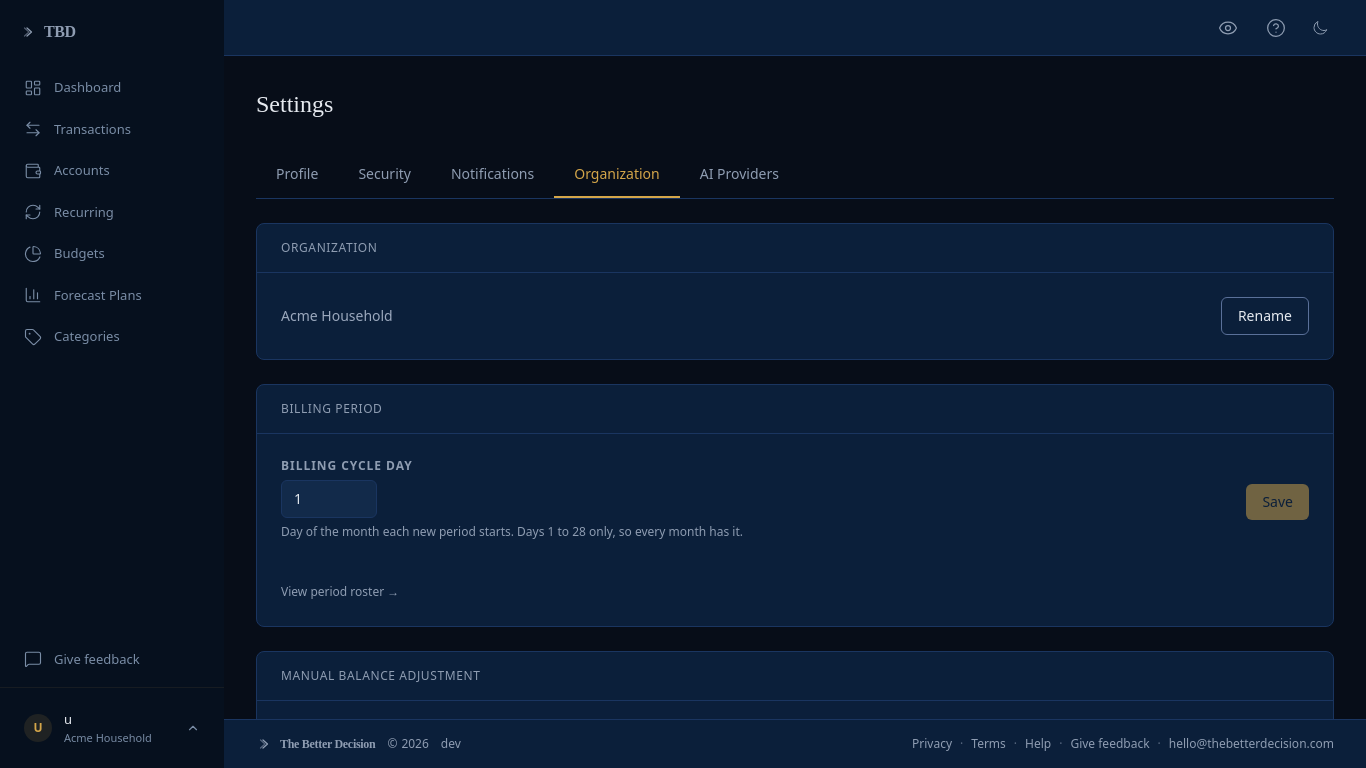
Test: OrganizationSettingsPage — rename › shows 409 error message on duplicate
Step 1. Click the button "Rename" → (1265, 316), box x1=1221 y1=297 x2=1309 y2=335
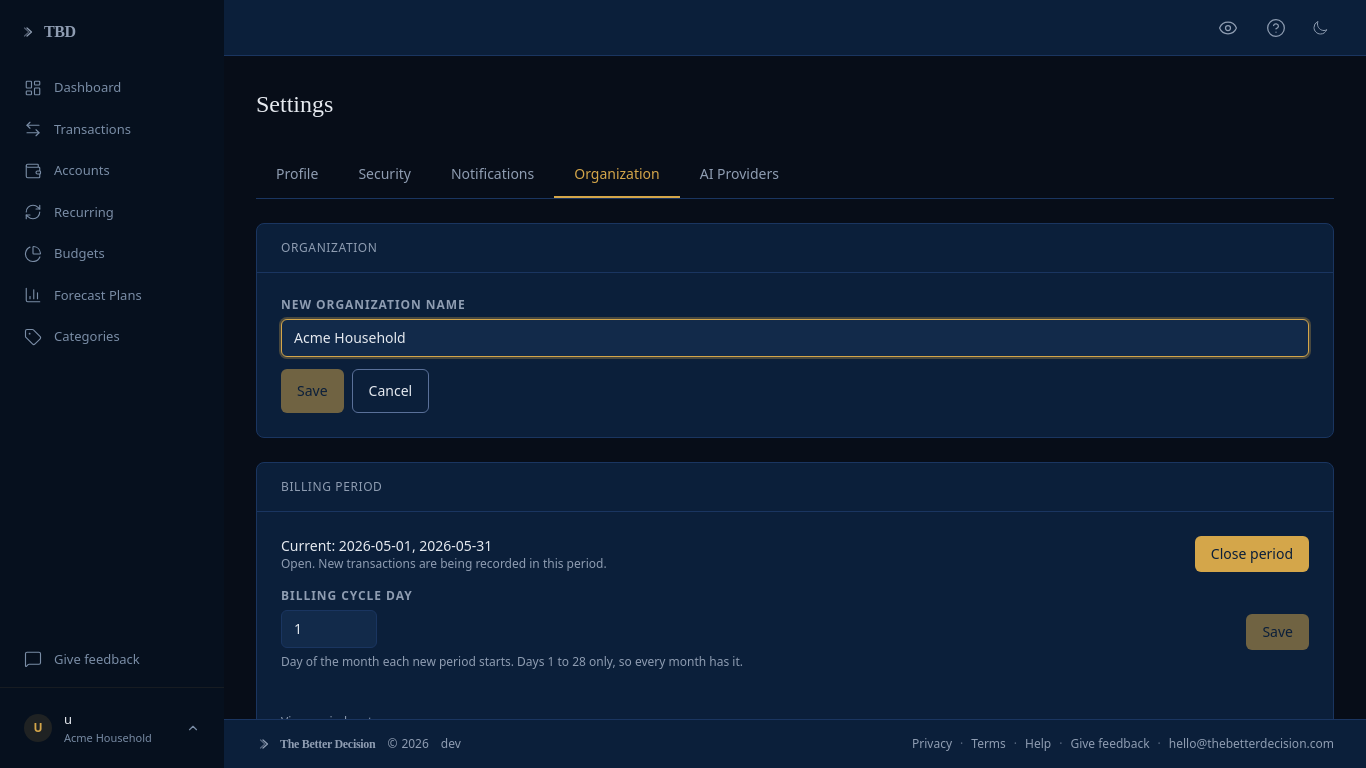
Step 2. Replace the text in the field labelled "New organization name" with "Other Co" → (795, 338), box x1=281 y1=319 x2=1309 y2=357
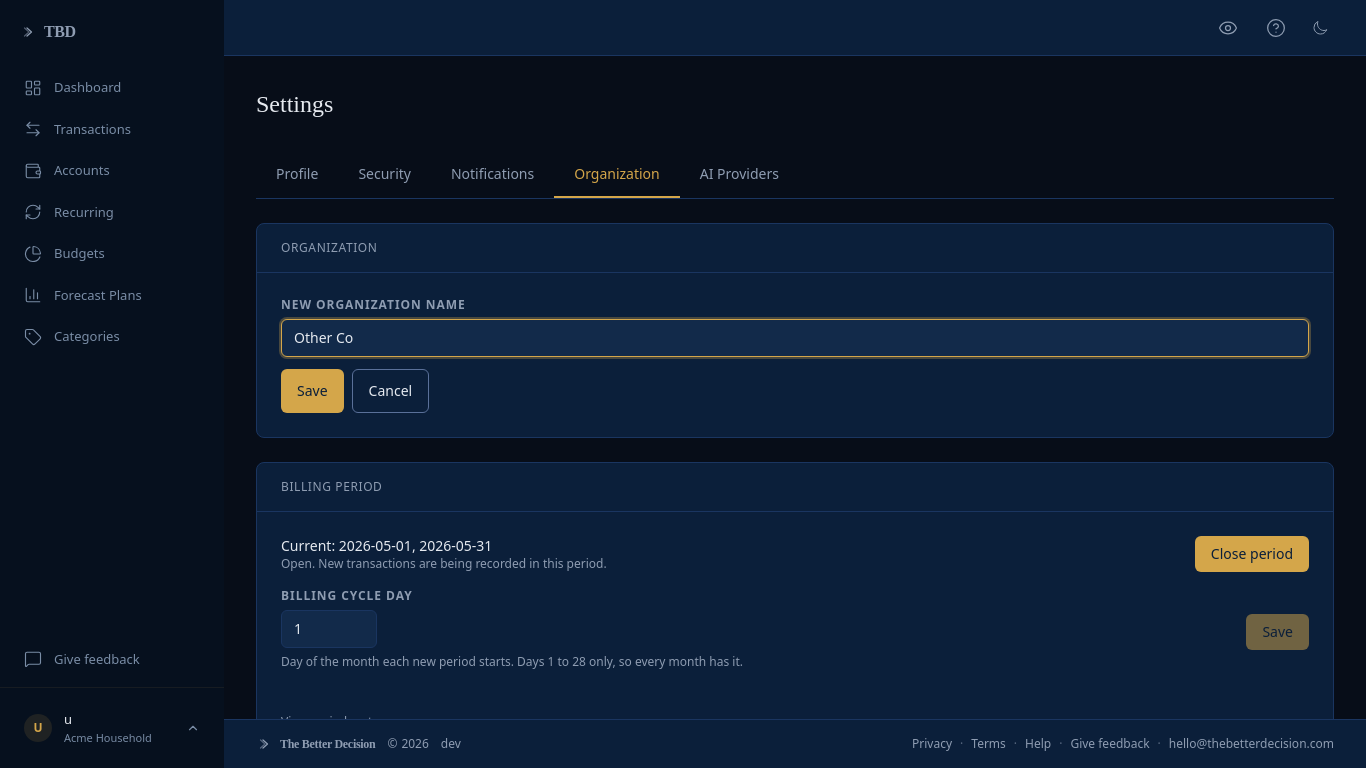
Step 3. Click the button with aria-label "save organization name" → (312, 391), box x1=281 y1=369 x2=344 y2=413
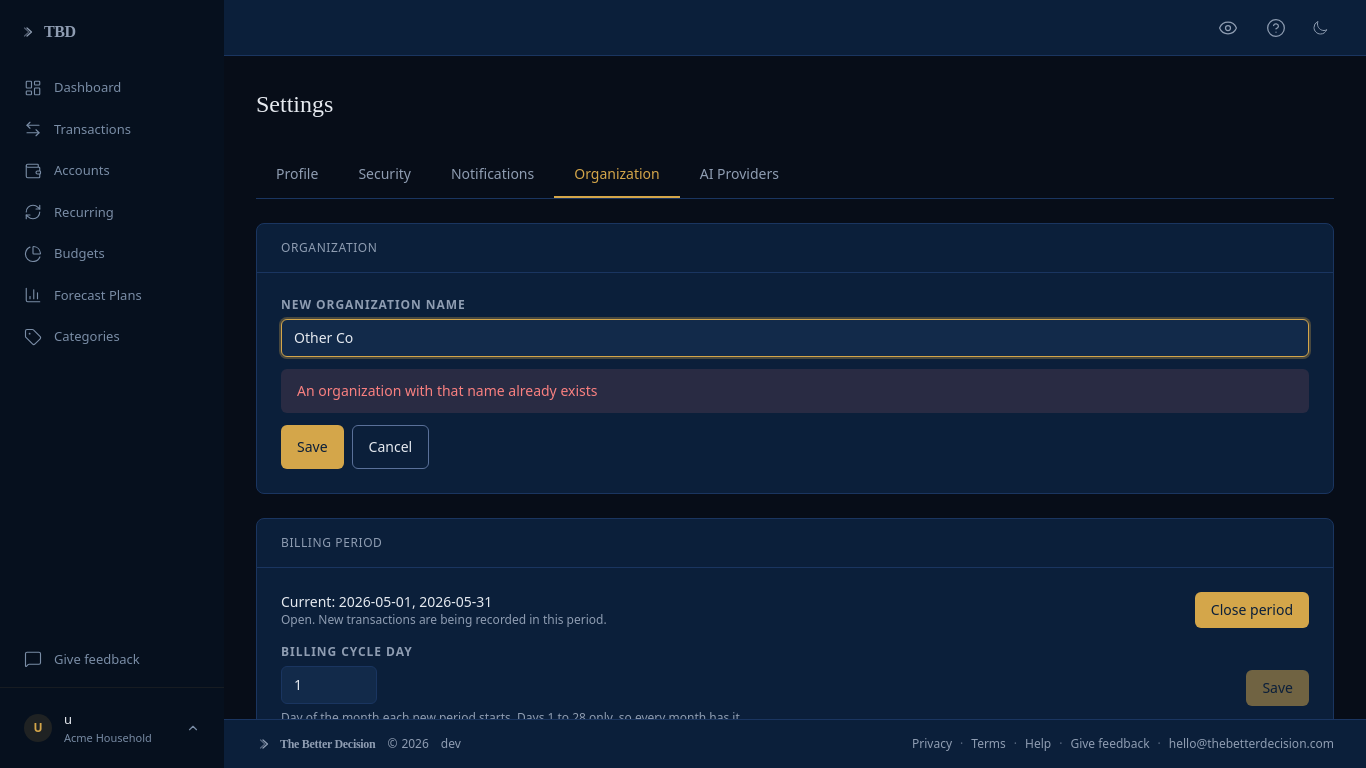
Result: the text "An organization with that name already exists" is shown at x1=281 y1=369 x2=1309 y2=413
